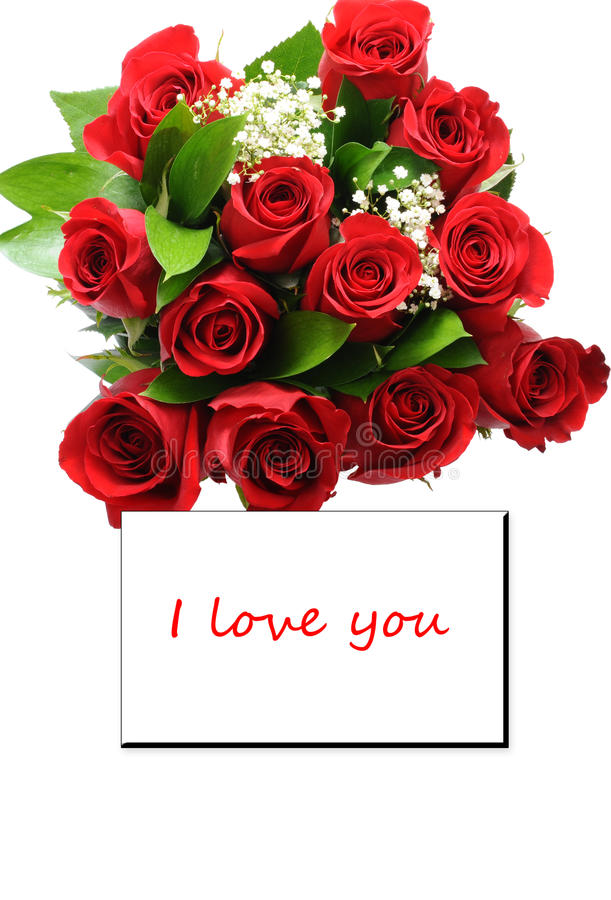RedRose: (28, 374, 207, 511), (432, 173, 574, 339), (450, 315, 605, 446), (334, 336, 465, 487), (94, 33, 240, 146), (251, 365, 347, 520), (159, 256, 277, 371), (238, 159, 369, 262), (402, 83, 533, 181), (325, 218, 432, 336), (319, 4, 421, 105), (70, 197, 148, 308)
